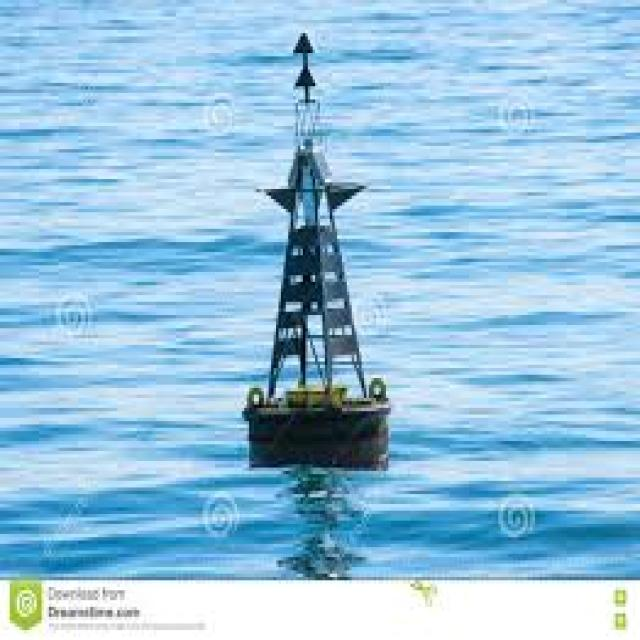marque: (235, 8, 396, 504)
